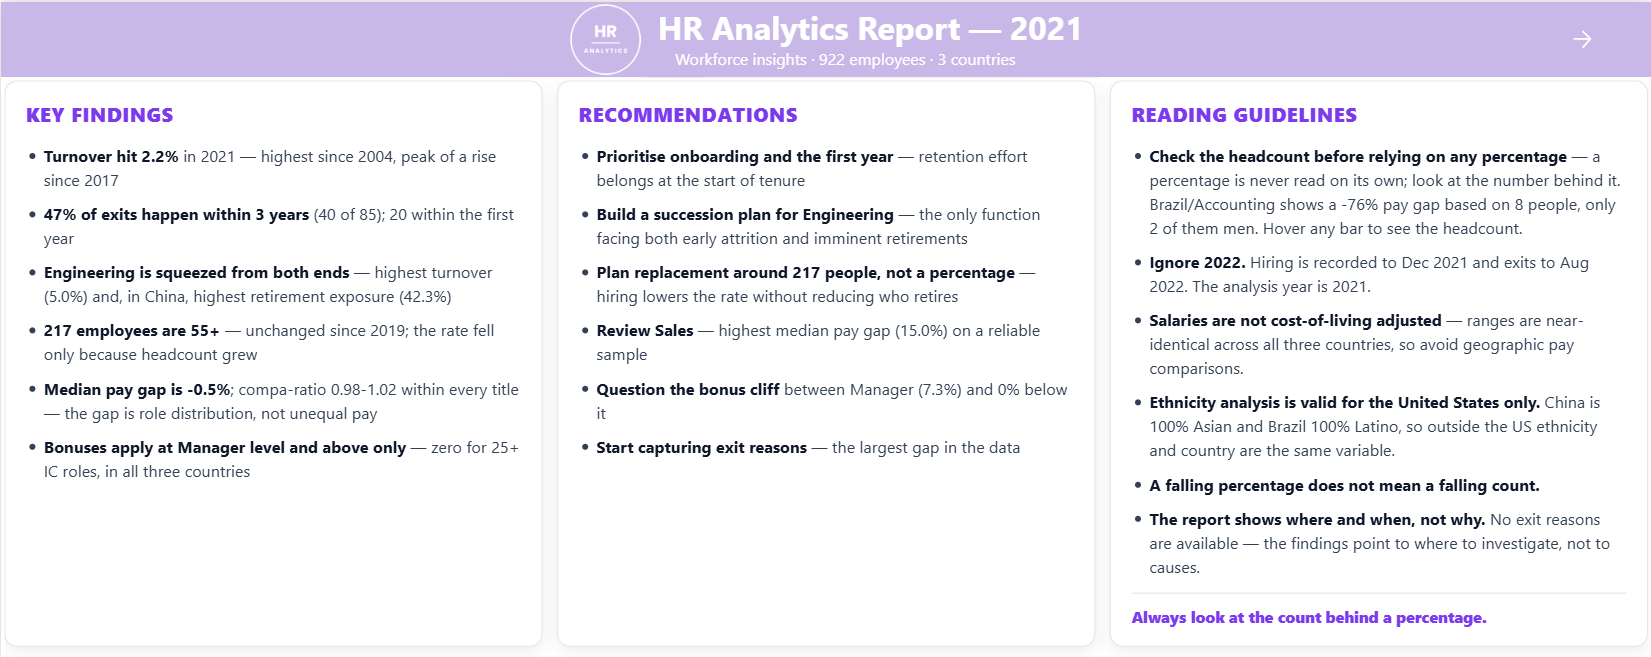

What the dashboard file says about the page in this screenshot:
{"tool":"powerbi","page":{"name":"Executive Summary","canvas":[2750,1110],"ordinal":0},"visuals":[{"type":"htmlContent443BE3AD55E043BF878BED274D3A6865","fields":{"content":["Fact_Employees.Executive Summary Card HTML"]},"box":[0,125,2750,1025],"z":0},{"type":"image","box":[845,0,325,125],"z":1000},{"type":"actionButton","box":[2615,42.5,100,40],"z":2000},{"type":"textbox","box":[1075,0,757.5,125],"z":3000}]}

Visuals, with their boxes in screenshot pixels (x1, y1, x2, y2), scaled from the page's 2750x1110 canvas onto the 1651x657 screenshot:
htmlContent443BE3AD55E043BF878BED274D3A6865 - Fact_Employees.Executive Summary Card HTML: {"left": 0, "top": 74, "right": 1650, "bottom": 656}
image: {"left": 507, "top": 0, "right": 702, "bottom": 74}
actionButton: {"left": 1570, "top": 25, "right": 1630, "bottom": 49}
textbox: {"left": 645, "top": 0, "right": 1100, "bottom": 74}
